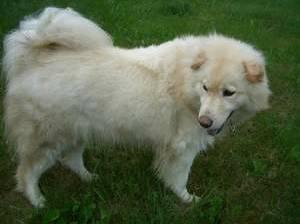dog: (3, 7, 270, 207)
